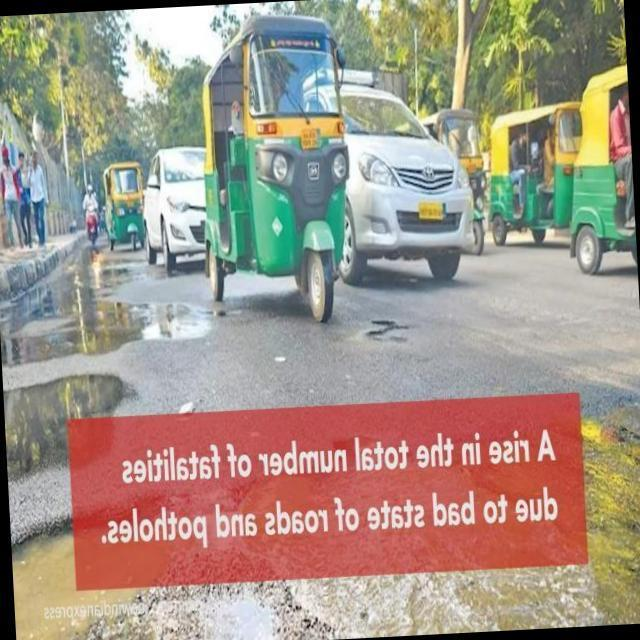pothole: (12, 507, 173, 640), (6, 376, 120, 480), (587, 418, 640, 470), (371, 317, 411, 350)
